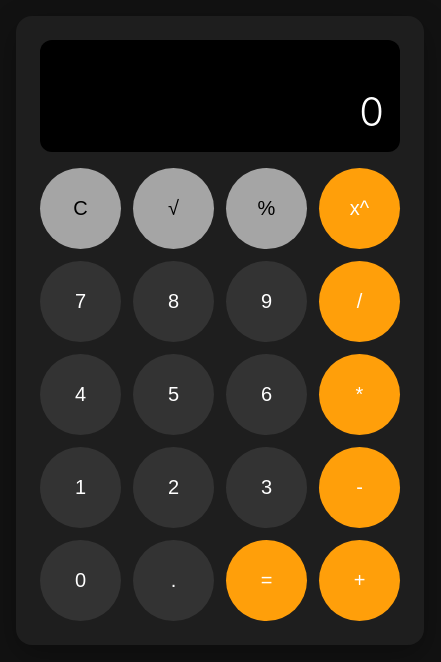
it: Calculator › should calculate 8 * 4 and show result
Click the button "8". click: (174, 302)
box: [133,261,214,342]
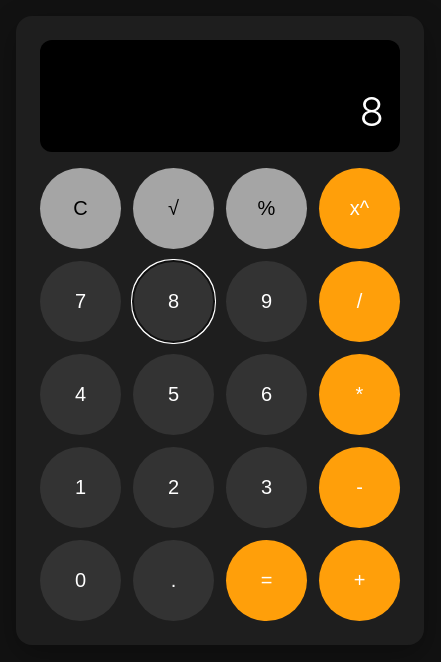
Click the button "*". click: (360, 394)
box: [319,354,400,435]
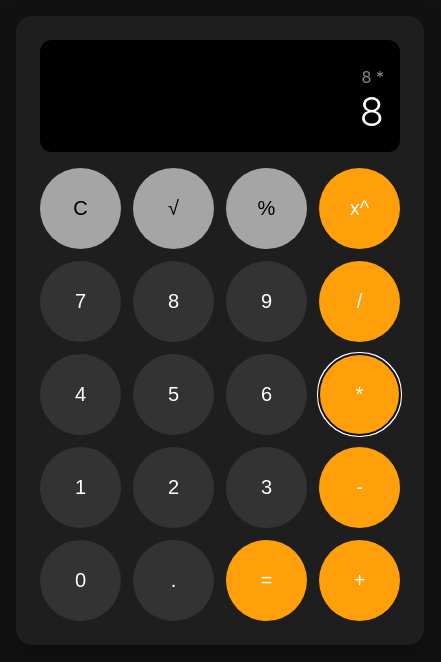
Click the button "4". click: (80, 394)
box: [40,354,121,435]
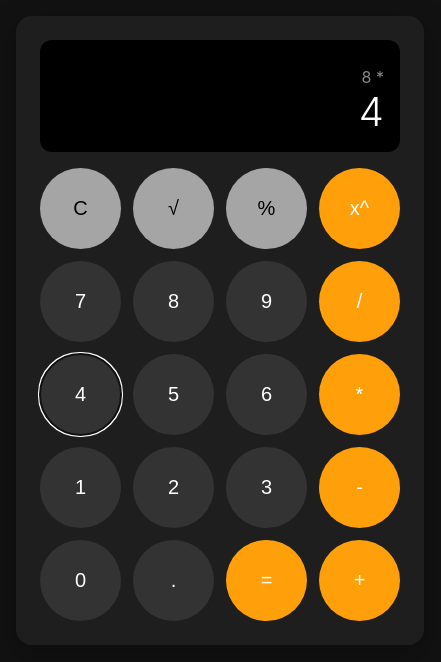
Click the button "=". click: (266, 580)
box: [226,540,307,621]
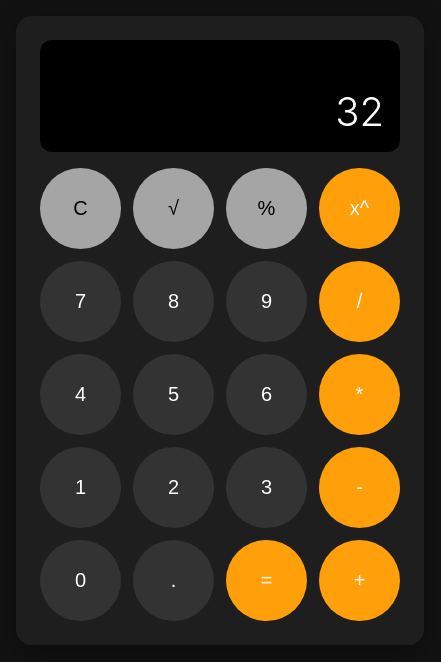
Now the text "32" is shown, box [335,87,384,136]
